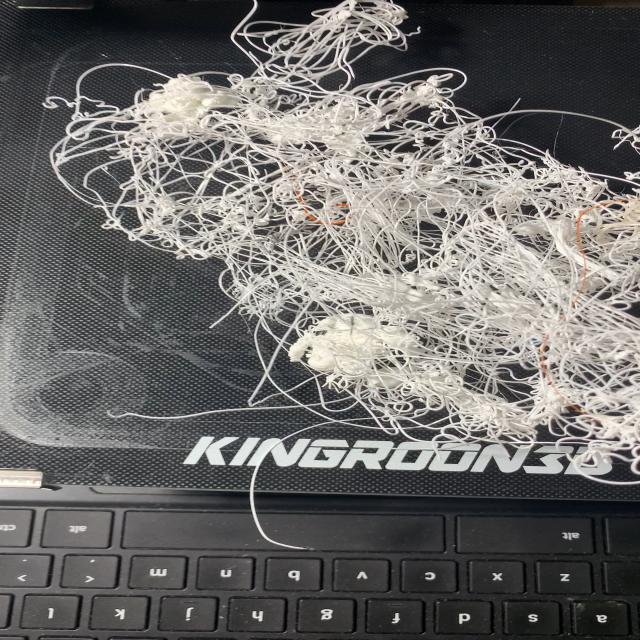spaghetti: (40, 2, 638, 487)
